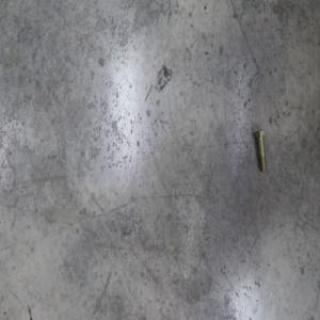Bolttrack_idkeyframe: (254, 127, 267, 171)
